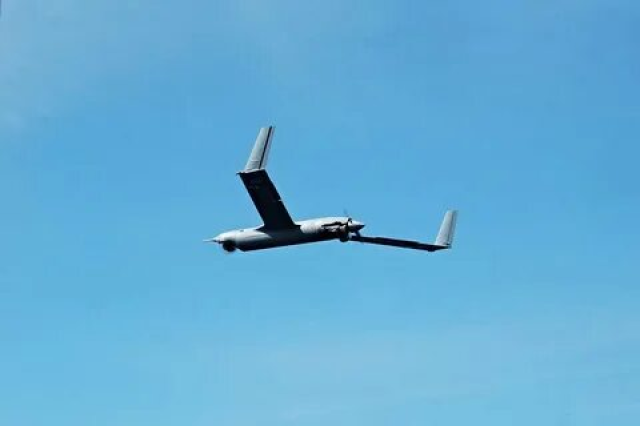military drone: (202, 125, 459, 253)
